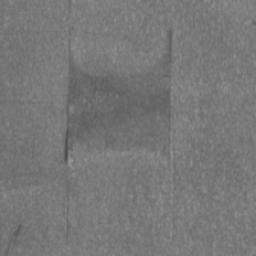Rolled pit: (68, 43, 170, 151)
